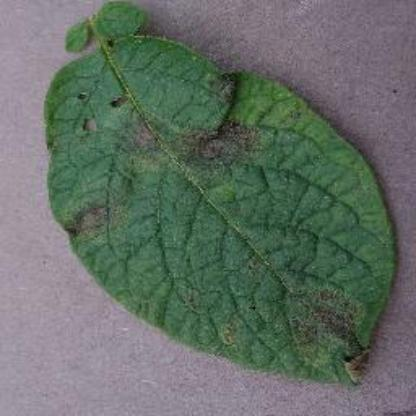Late-Blight: (37, 1, 398, 401)
